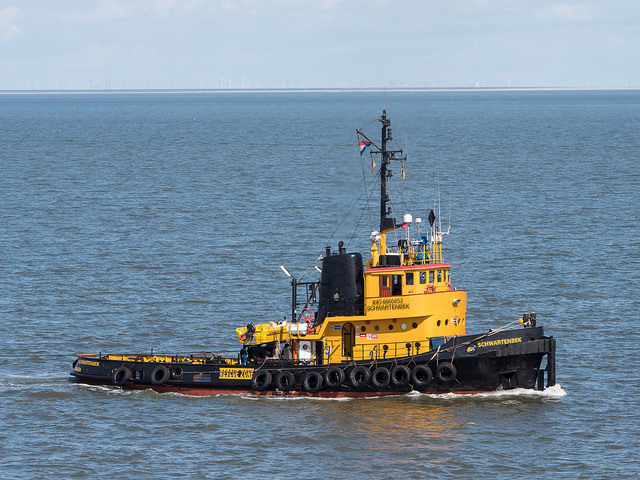tug_boat: (76, 117, 571, 401)
